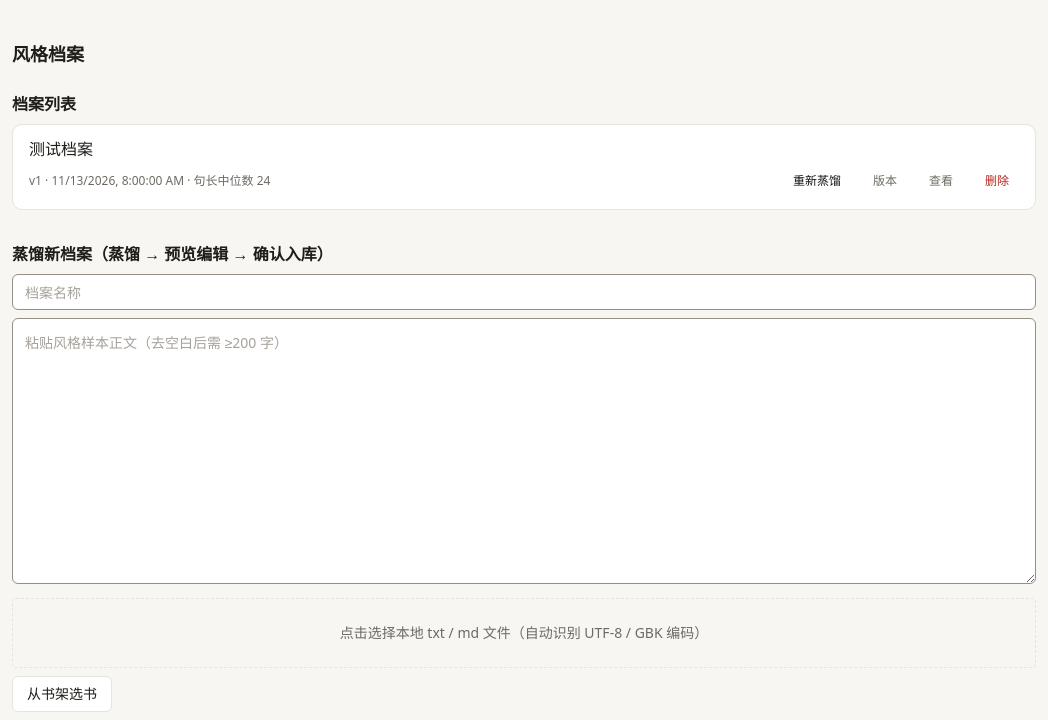
Test: StyleProfilesSection 三态确认门 › 版本展开：点击拉取同源版本列表并显示自评分，可收起
This screenshot has width=1048, height=720.
Expected: the text "测试档案" is shown, [29, 138, 93, 160]
Click the button "版本" at (885, 181), box [863, 165, 907, 197]
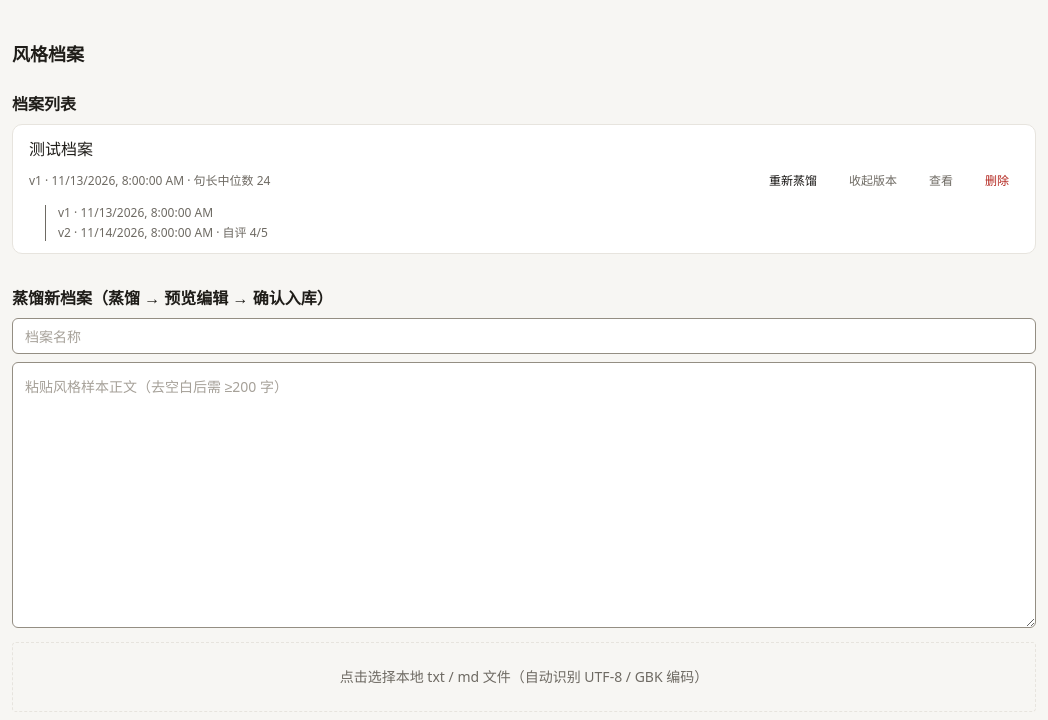
Now the list item "v2 · 11/14/2026, 8:00:00 AM · 自评 4/5" is shown, box [58, 224, 268, 241]
Click the button "收起版本" at (873, 181), box [839, 165, 907, 197]
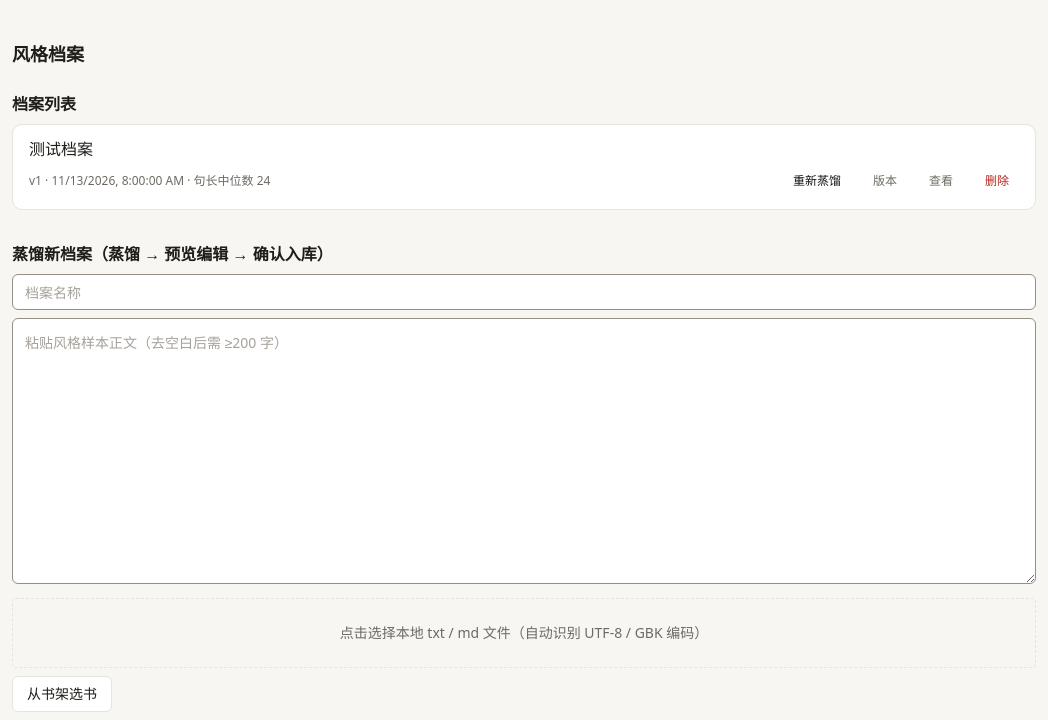
Now the list item "自评 4/5" is gone
